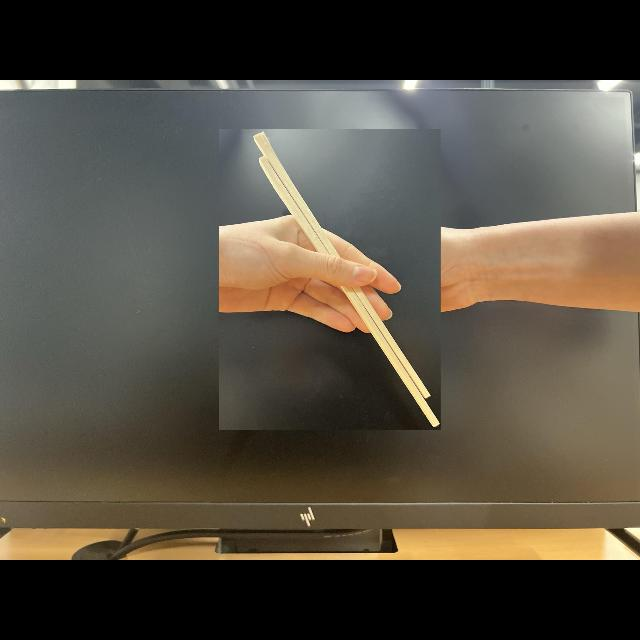stick: (220, 130, 440, 430)
